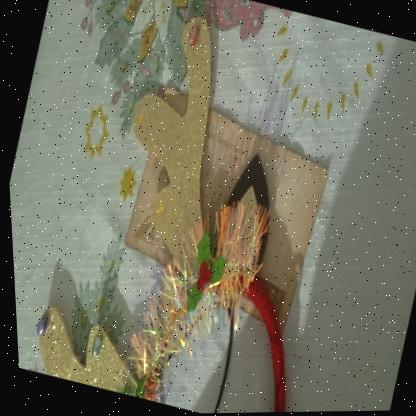five-back-vef: (101, 82, 343, 337)
